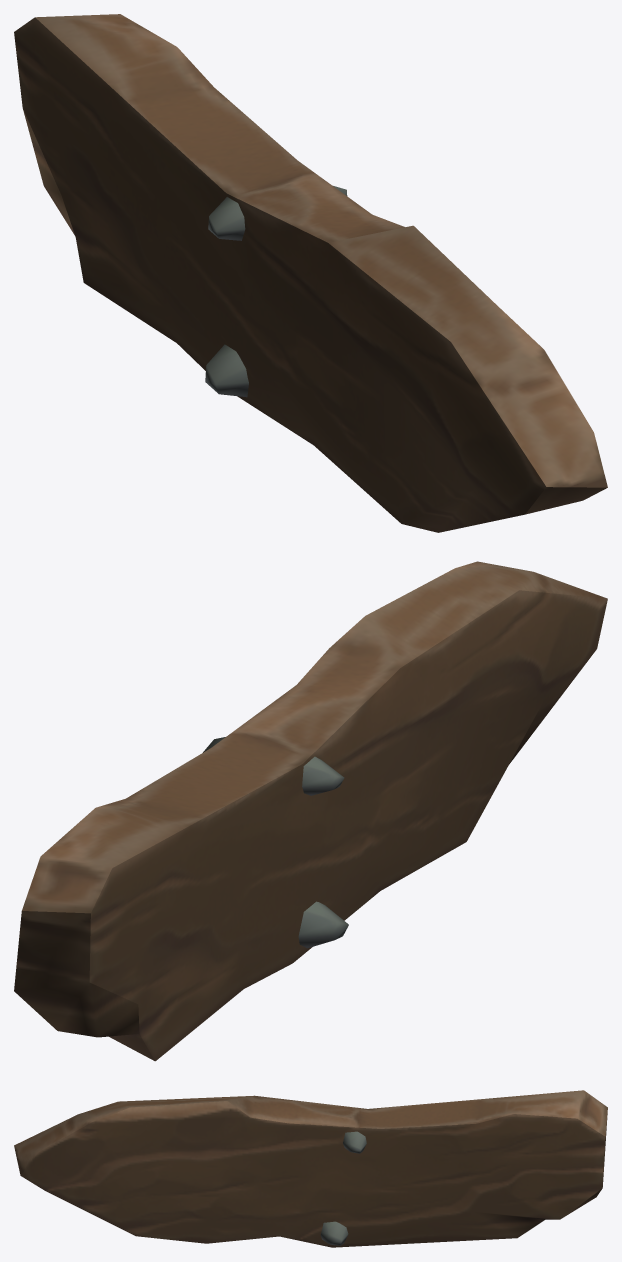
Rendered from SM_FW01_Roadsign_05.fbx.
3 renders of one model, top to bottom at view 1: azimuth 30°, elevation 25°; view 2: azimuth 150°, elevation 25°; view 3: azimuth 270°, elevation 25°, orthographic. The views are drawn at different scales.
Parts seen in each view (by area): view 1: SM_FW01_Roadsign_05_LOD0; view 2: SM_FW01_Roadsign_05_LOD0; view 3: SM_FW01_Roadsign_05_LOD0.
Part boxes in pixels (left/top/right/bottom): SM_FW01_Roadsign_05_LOD0: left=14, top=14, right=607, bottom=532; SM_FW01_Roadsign_05_LOD0: left=14, top=561, right=607, bottom=1061; SM_FW01_Roadsign_05_LOD0: left=14, top=1090, right=607, bottom=1247.
Size of what is drawn, in the model's own units: 0.1297 by 0.2248 by 0.8526.
